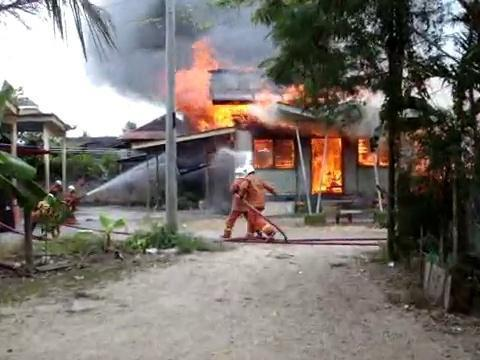fire: (174, 42, 263, 130), (309, 131, 343, 195), (253, 135, 296, 170), (359, 138, 375, 165)
